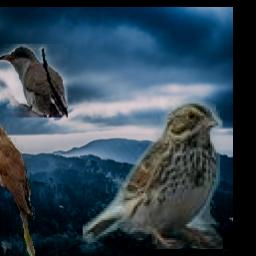Cuckoo: (0, 44, 69, 118), (0, 126, 35, 256)
Sparrow: (84, 100, 224, 250)
